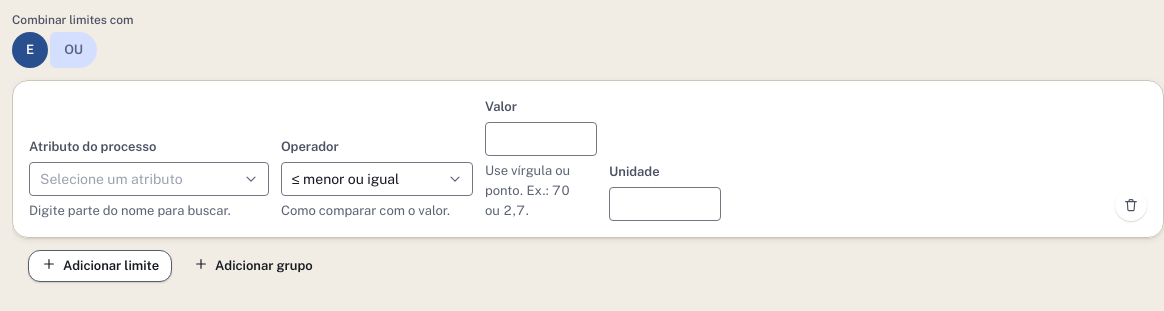
restrição sobre atributo de processo (P0-4) › offers the chosen operator's attributes, by name, in the row
Click the dropdown labelled "Atributo do processo" at (149, 178), box [29,162,269,196]
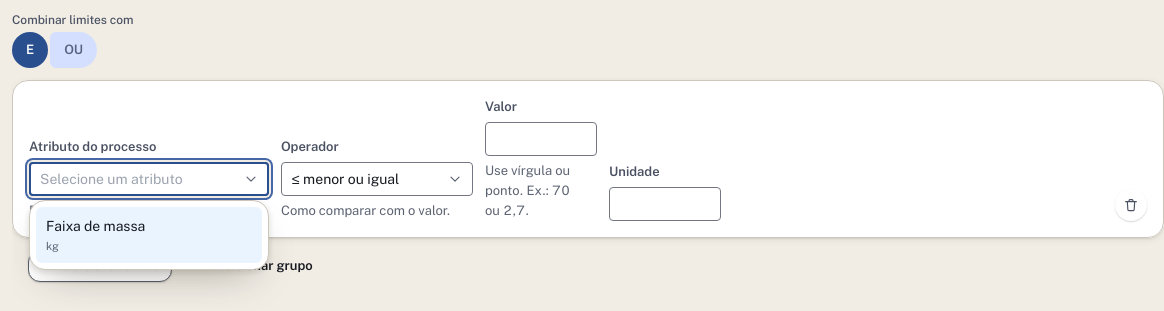
Check: the option "Faixa de massa kg" is shown, box [36,206,262,262]
